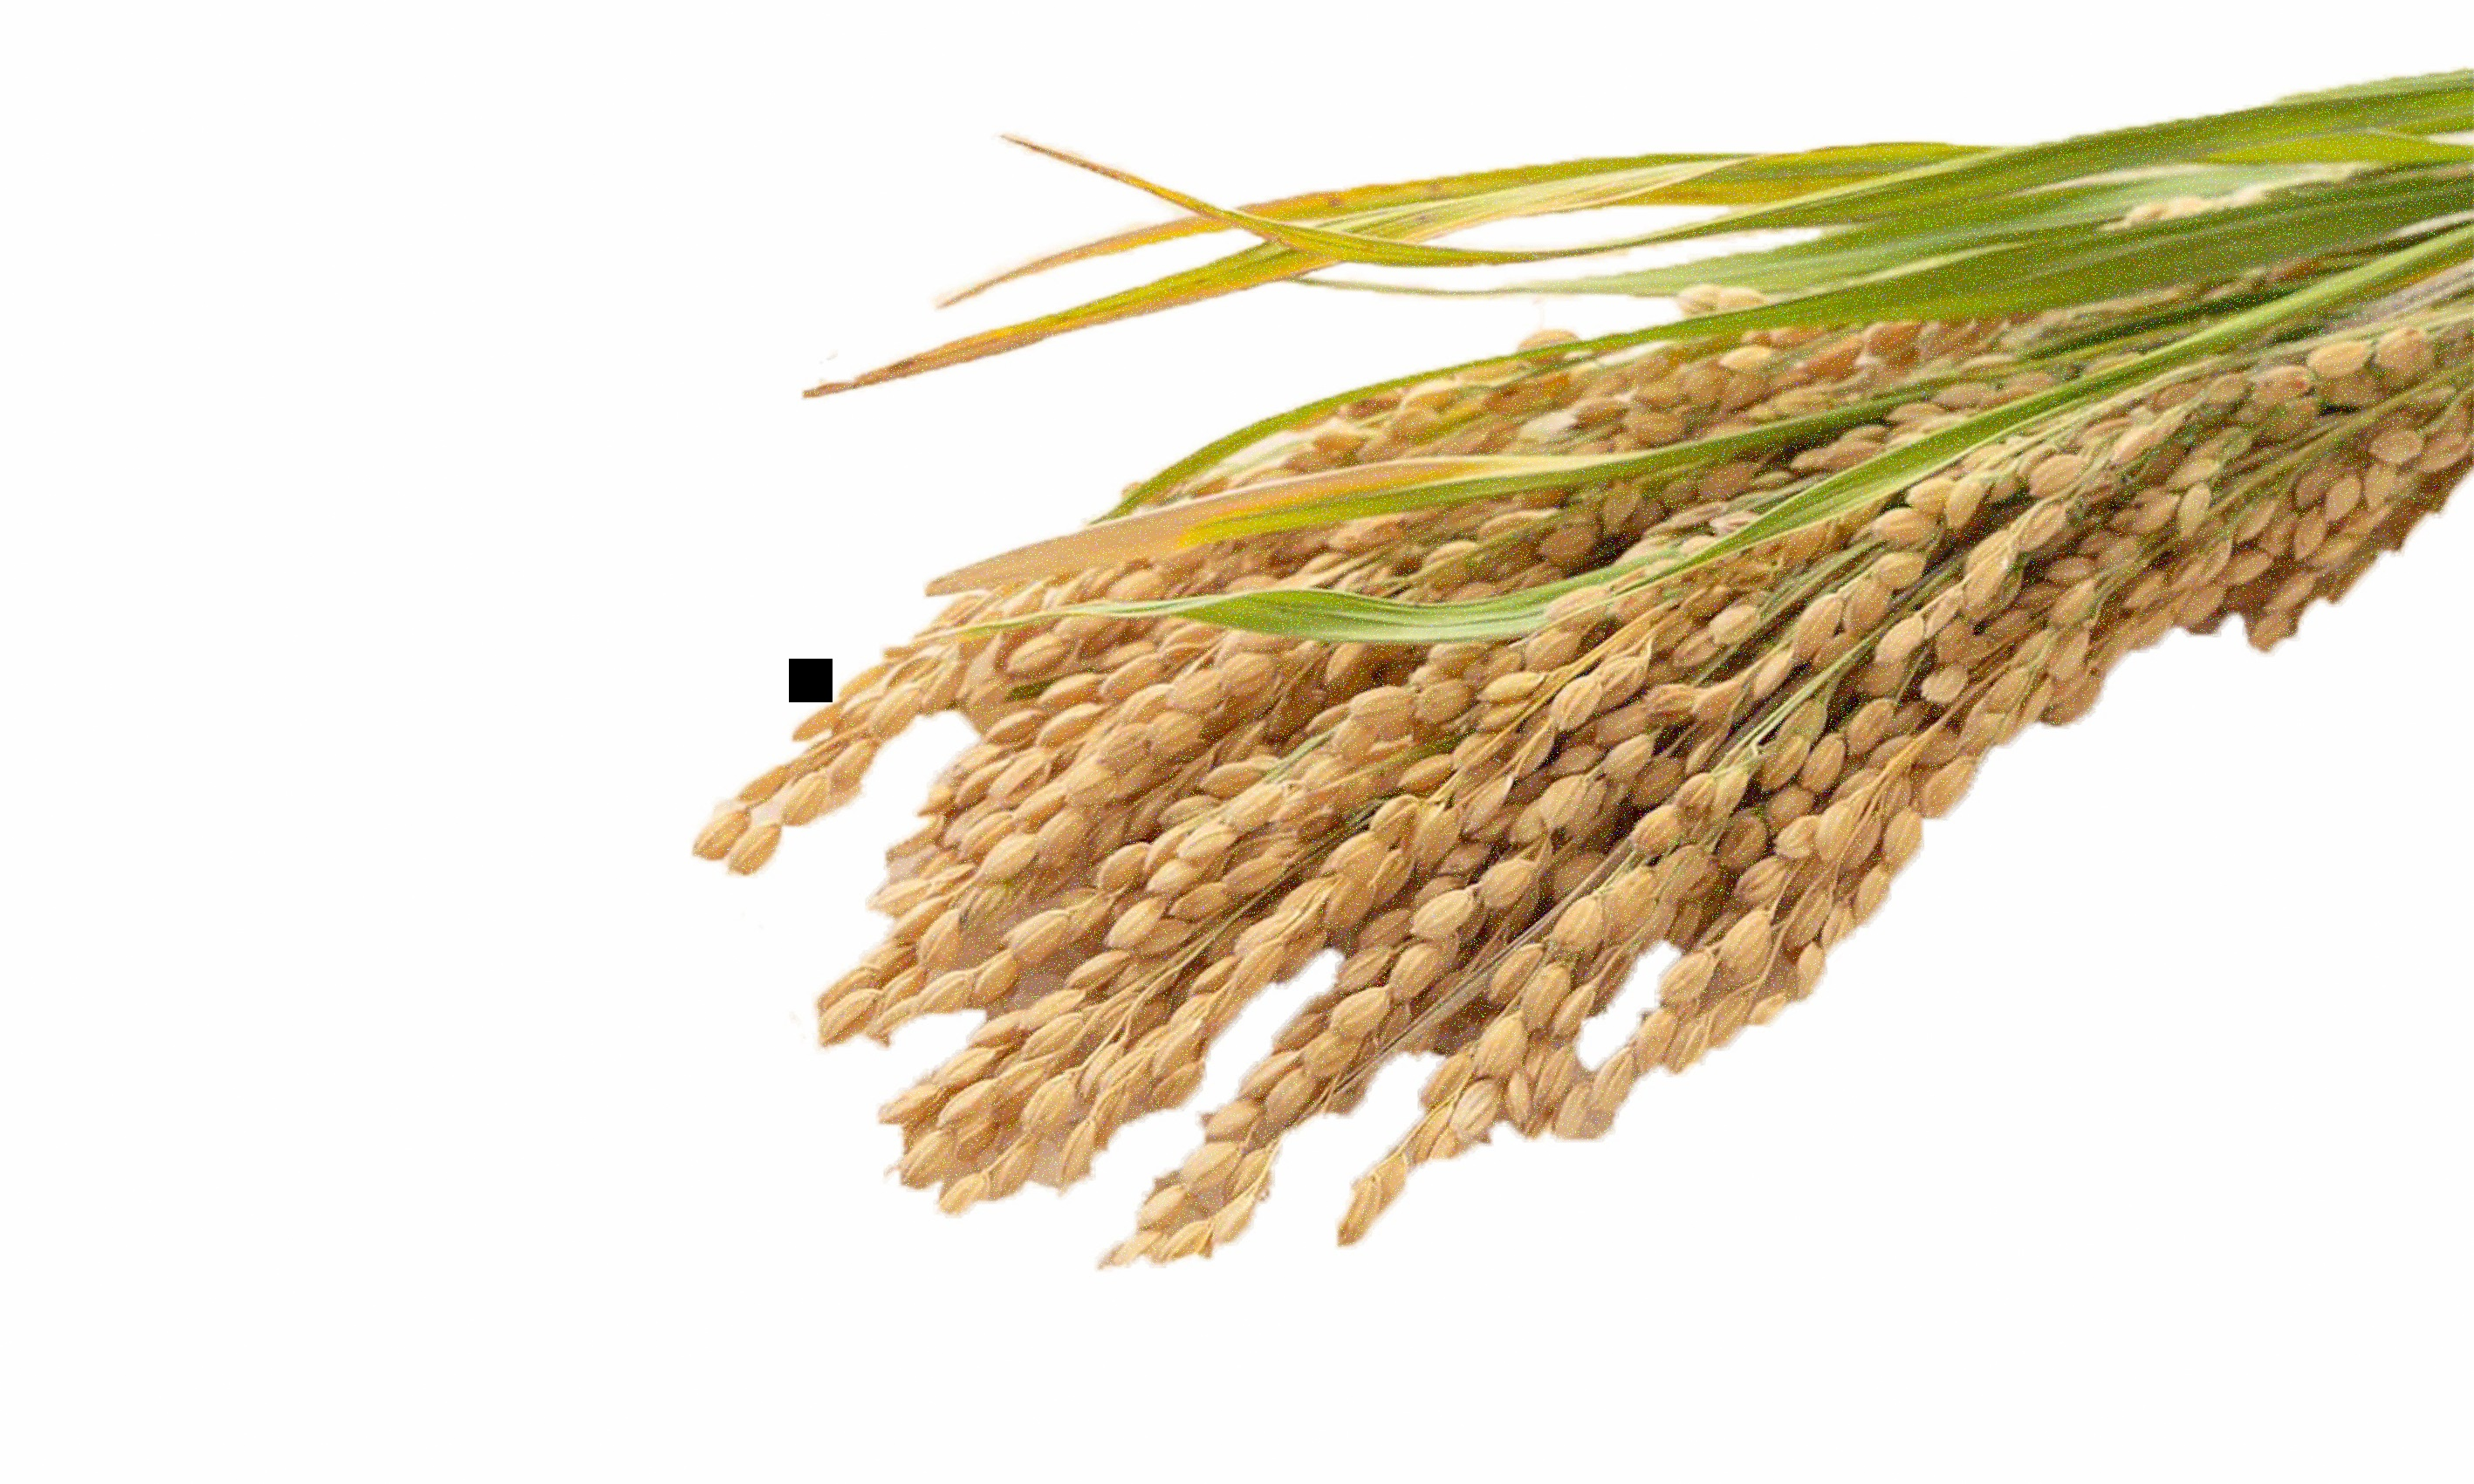rice: (645, 191, 2470, 1293)
